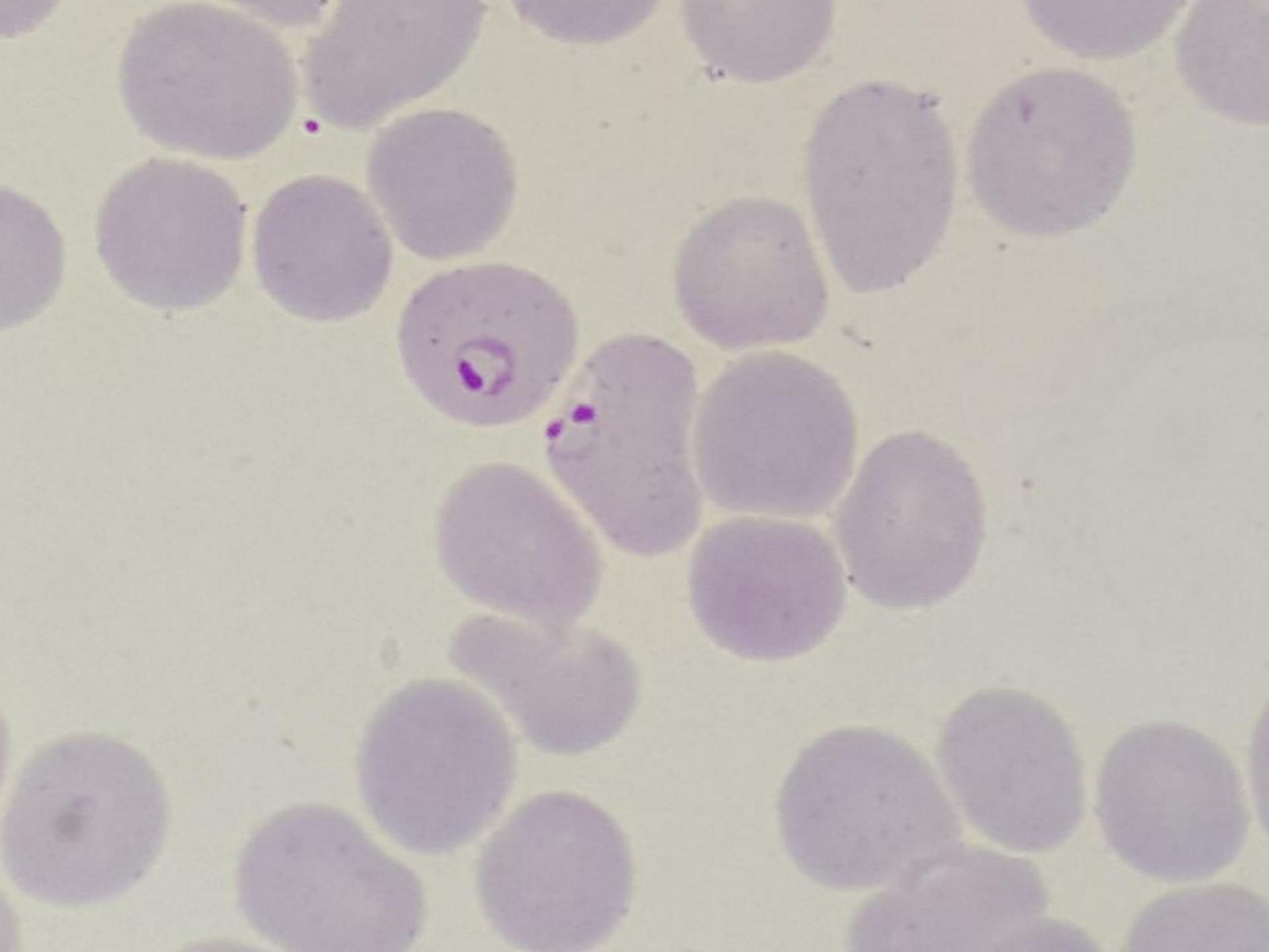Infected: (540, 332, 708, 551), (400, 265, 574, 426)
Uninfected: (806, 83, 956, 296), (445, 606, 636, 758), (965, 68, 1132, 238), (778, 730, 952, 890), (5, 735, 165, 907), (362, 677, 514, 855), (240, 806, 424, 952), (834, 436, 985, 610), (436, 464, 597, 627), (694, 355, 852, 517), (121, 5, 294, 152), (474, 794, 631, 951), (302, 0, 490, 129), (942, 687, 1087, 853), (1096, 727, 1246, 882), (675, 202, 828, 351), (690, 509, 843, 658), (97, 162, 245, 311), (375, 111, 514, 258), (258, 174, 385, 318)
